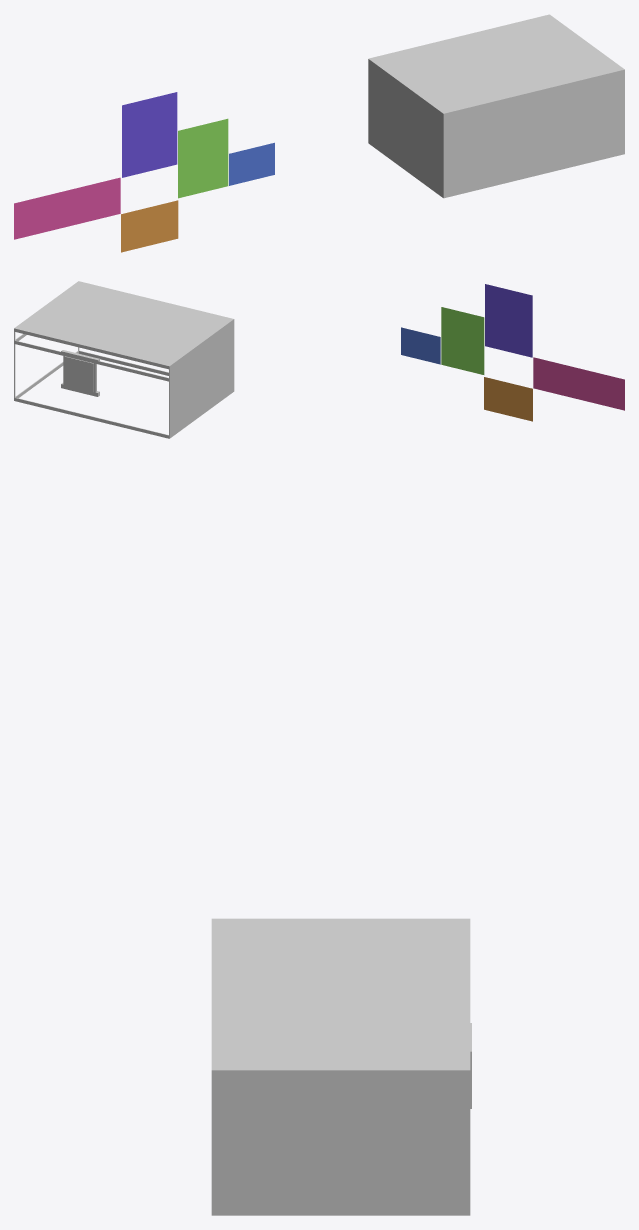
The model's file is gon-bedroom.glb.
3 renders of one model, top to bottom at view 1: azimuth 30°, elevation 25°; view 2: azimuth 150°, elevation 25°; view 3: azimuth 270°, elevation 25°, orthographic. The views are drawn at different scales.
Parts seen in each view (by area): view 1: Back Wall, Ceiling, Left Wall, Top View Divider, Desk View Divider, Bookshelf View Divider, Bottom View Divider, Poster View Divider; view 2: Ceiling, Left Wall, Top View Divider, Desk View Divider, Bookshelf View Divider, Front Wall, Bottom View Divider, Poster View Divider, Window Difference, Window Support, Back Wall, Right Wall; view 3: Ceiling, Right Wall.
Part boxes in pixels (bbox=[...]): Back Wall: bbox=[443, 69, 624, 198]; Ceiling: bbox=[368, 14, 624, 113]; Left Wall: bbox=[368, 59, 443, 197]; Top View Divider: bbox=[122, 92, 177, 177]; Desk View Divider: bbox=[14, 177, 120, 239]; Bookshelf View Divider: bbox=[178, 118, 228, 198]; Bottom View Divider: bbox=[121, 200, 178, 252]; Poster View Divider: bbox=[229, 142, 274, 185]; Ceiling: bbox=[14, 281, 233, 366]; Left Wall: bbox=[169, 319, 234, 438]; Top View Divider: bbox=[485, 284, 532, 357]; Desk View Divider: bbox=[533, 357, 624, 410]; Bookshelf View Divider: bbox=[441, 307, 484, 374]; Front Wall: bbox=[14, 328, 169, 438]; Bottom View Divider: bbox=[484, 377, 532, 421]; Poster View Divider: bbox=[401, 327, 440, 364]; Window Difference: bbox=[64, 356, 93, 392]; Window Support: bbox=[61, 350, 99, 396]; Back Wall: bbox=[78, 347, 168, 375]; Right Wall: bbox=[15, 283, 78, 398]; Ceiling: bbox=[211, 918, 470, 1070]; Right Wall: bbox=[211, 1070, 470, 1215].
Size of the model in its own units: 561 by 158 by 139.
